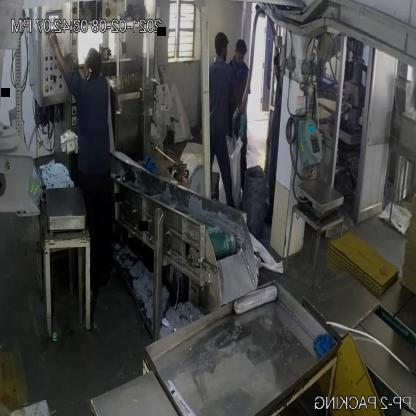no_glove: (46, 27, 72, 89)
